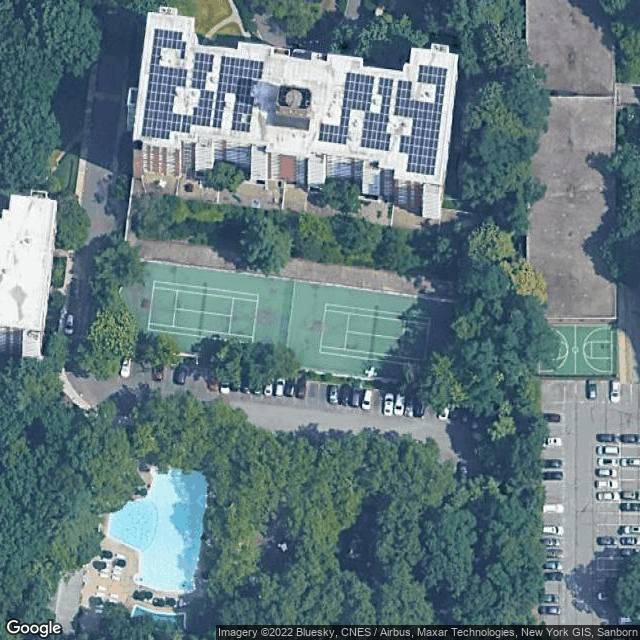Court: (318, 301, 433, 371), (147, 277, 261, 346)
